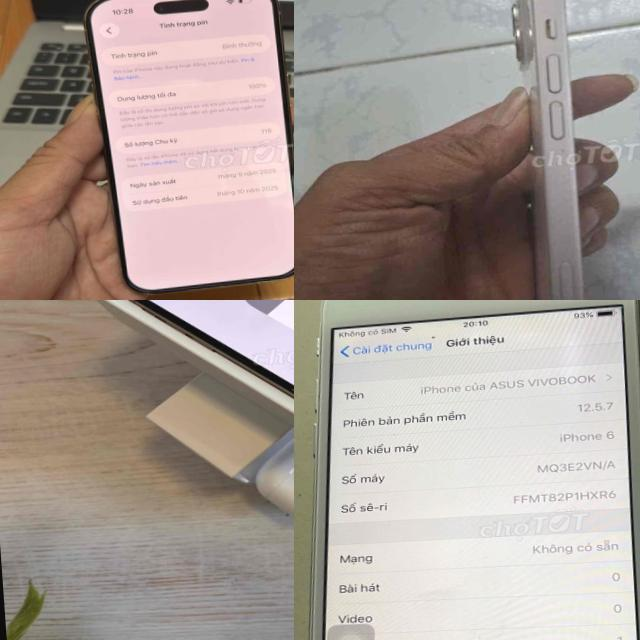gen_12_13: (477, 0, 638, 300)
gen_17: (77, 0, 294, 300)
gen_6: (294, 300, 640, 640)
gen_x_xs: (37, 300, 294, 517)
